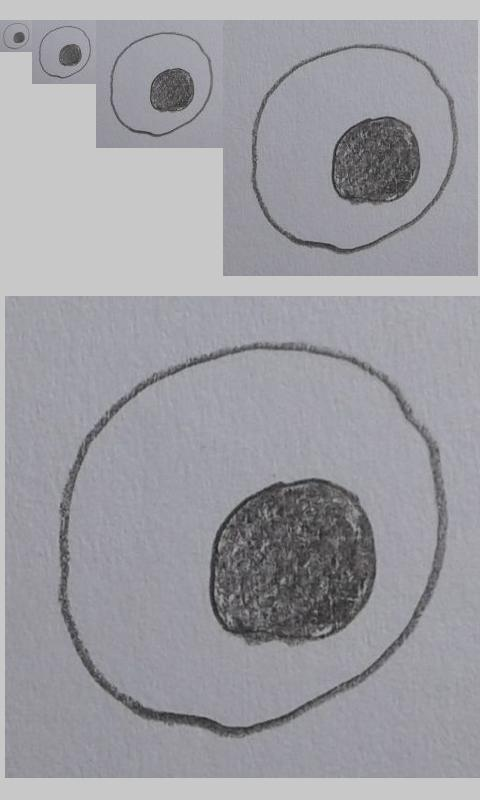radio_button: (52, 336, 448, 739), (249, 43, 459, 254), (108, 30, 213, 137), (37, 24, 92, 79), (1, 21, 29, 49)
